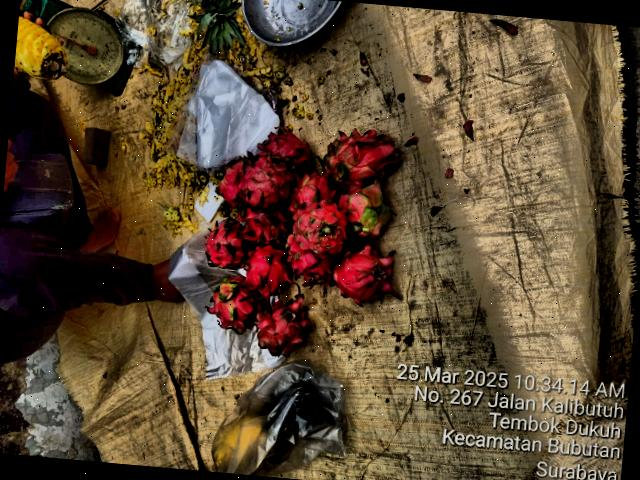buah-naga-belum-matang: (319, 126, 402, 190), (334, 182, 394, 240)
buah-naga-matang: (328, 244, 406, 308), (248, 297, 316, 354), (202, 278, 260, 338), (278, 231, 337, 287), (234, 154, 292, 208), (252, 123, 316, 170), (294, 200, 348, 254), (240, 244, 294, 295), (286, 170, 342, 216), (206, 218, 253, 270), (211, 158, 245, 203), (242, 206, 288, 236)
